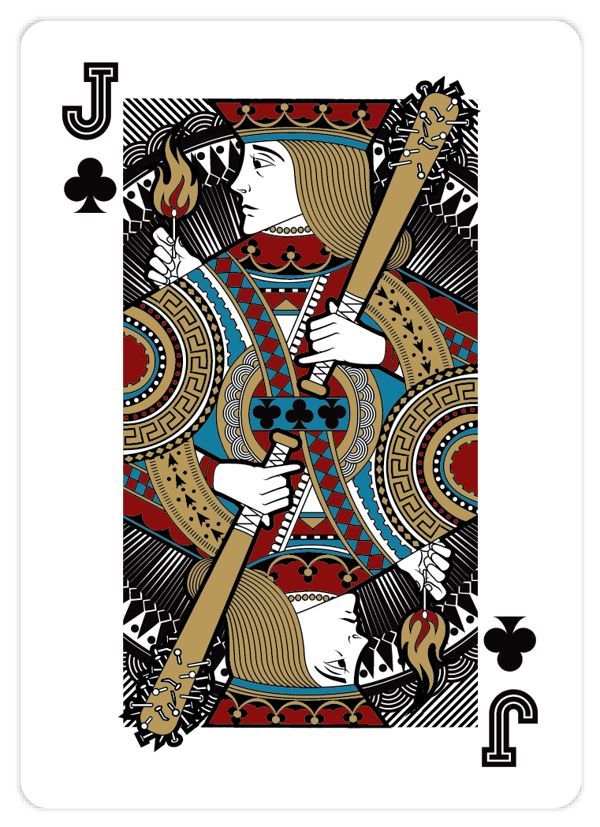jack of clubs: (31, 33, 577, 797)
